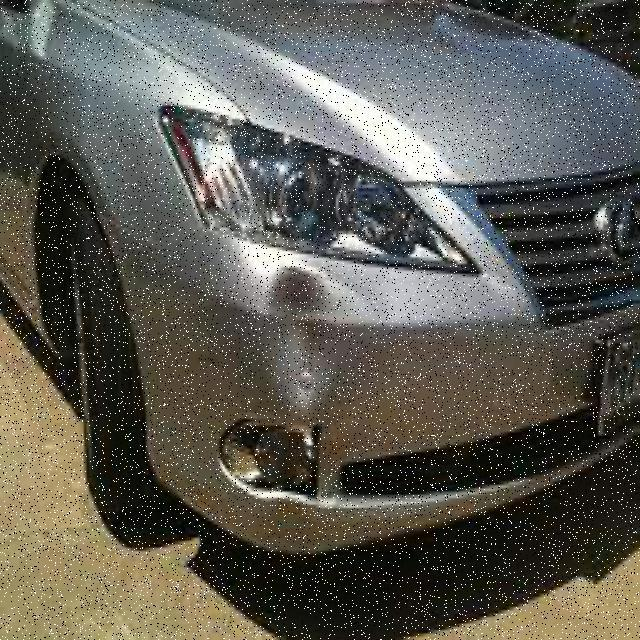front-bumper-dent: (94, 241, 596, 541)
